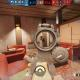Character: (40, 35, 46, 49)
Friend_label: (39, 32, 44, 36)
Head: (40, 36, 42, 38)
